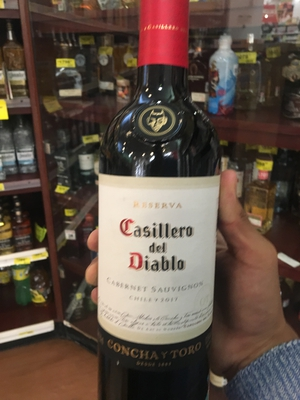casillero del diablo cabernet sauvignon: (93, 23, 227, 400)
